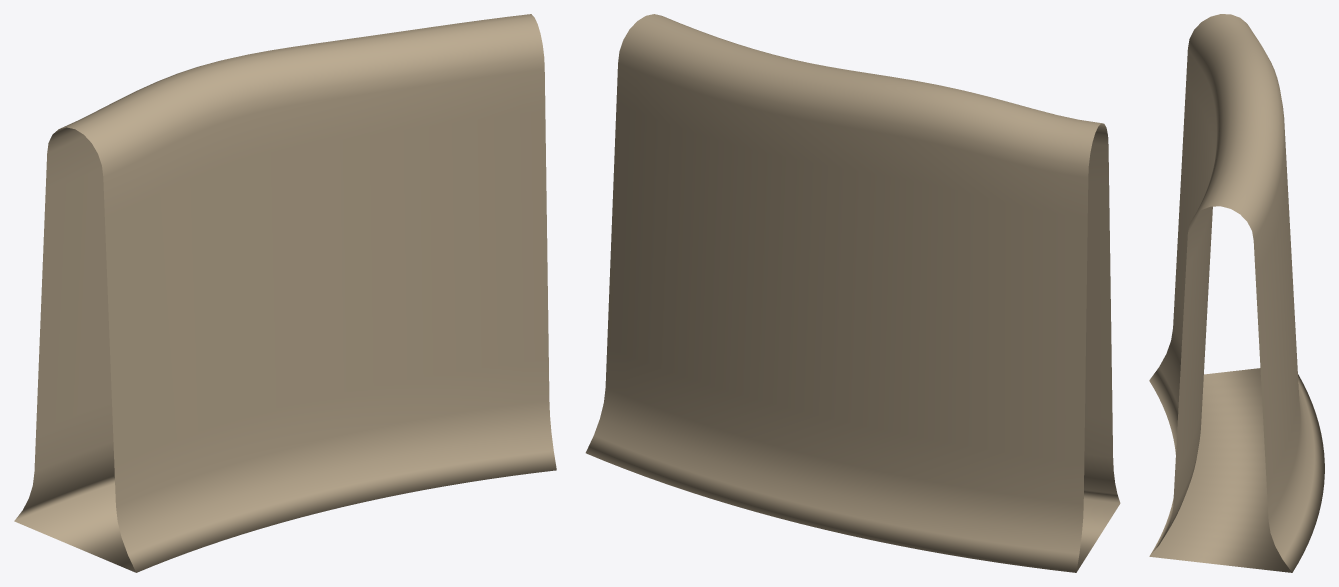
The model's file is KFB_Wall_curved_ring_r2.r4.glb.
The picture shows the model from 3 angles, left to right: view 1: azimuth 30°, elevation 25°; view 2: azimuth 150°, elevation 25°; view 3: azimuth 270°, elevation 25°; orthographic projection. The views are drawn at different scales.
Parts seen in each view (by area): view 1: KFB_Wall_curved_ring_r2; view 2: KFB_Wall_curved_ring_r2; view 3: KFB_Wall_curved_ring_r2.
Part boxes in pixels (x1,y1,x2,y2): KFB_Wall_curved_ring_r2: [14, 14, 556, 572]; KFB_Wall_curved_ring_r2: [585, 14, 1120, 572]; KFB_Wall_curved_ring_r2: [1149, 14, 1324, 572].
Size of the model in its own units: 4.49 by 3.71 by 1.6.
